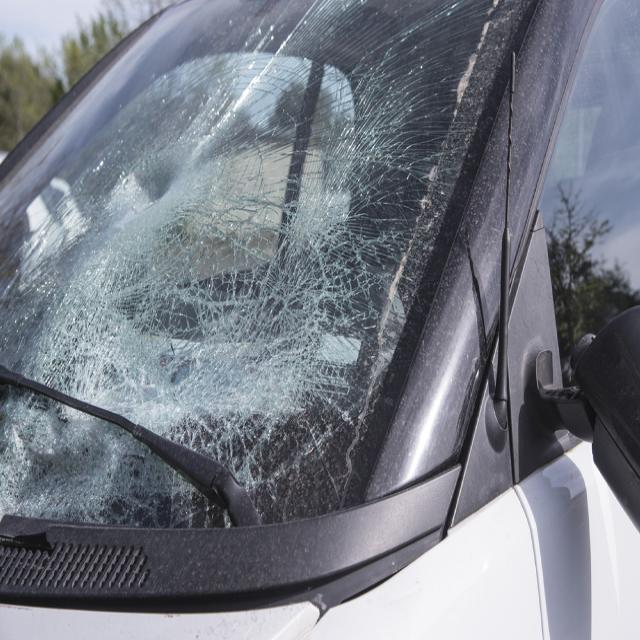glass shatter: (0, 0, 530, 526)
